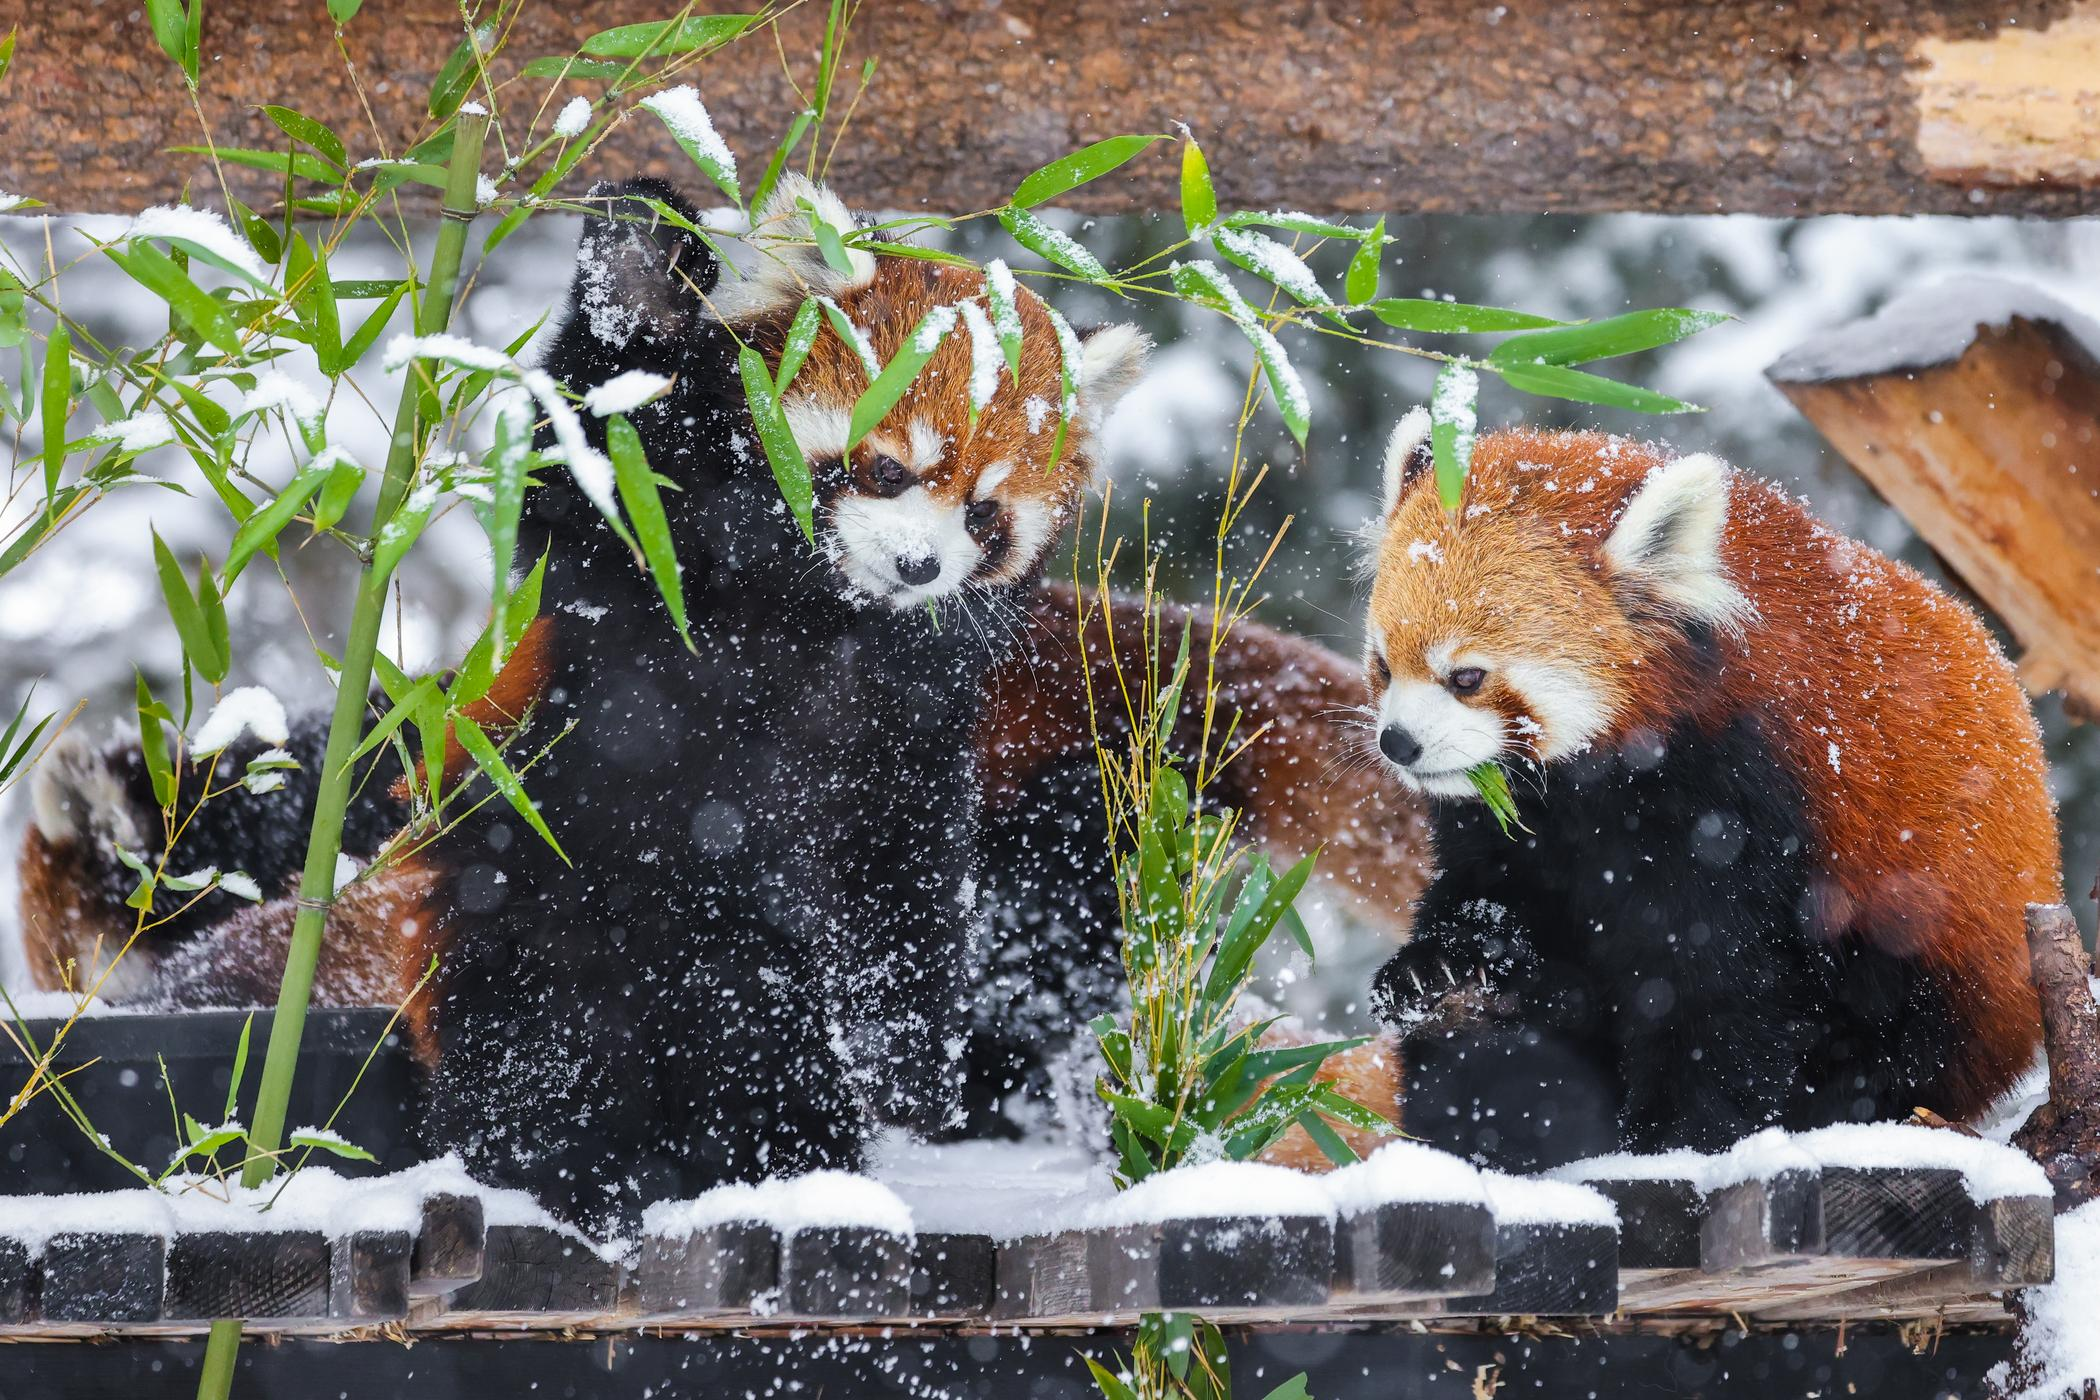Red panda: (702, 166, 1109, 631), (1355, 394, 1752, 809)
